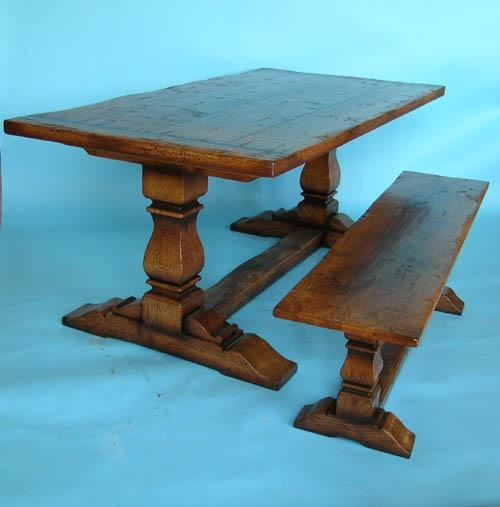obstacle: (4, 68, 487, 457)
